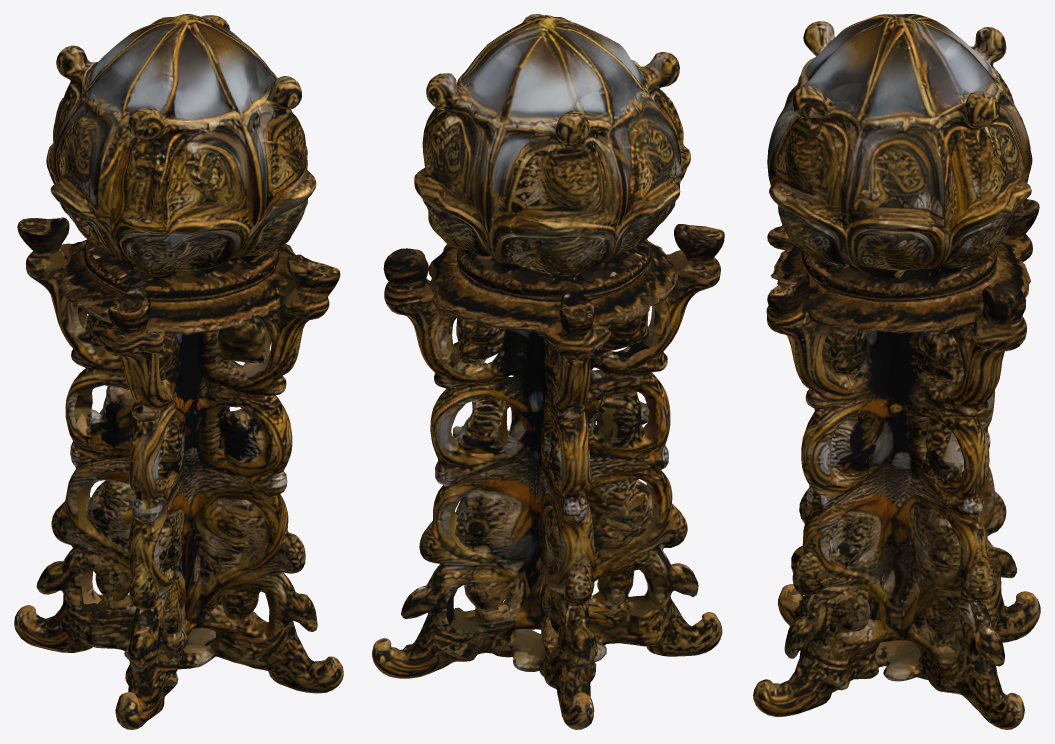
3 views of the same model, side by side, from view 1: azimuth 30°, elevation 25°; view 2: azimuth 150°, elevation 25°; view 3: azimuth 270°, elevation 25° (orthographic). The views are drawn at different scales.
Visible parts, largest first — view 1: textured_mesh; view 2: textured_mesh; view 3: textured_mesh.
Part boxes in pixels (bbox=[...]): textured_mesh: bbox=[14, 14, 343, 729]; textured_mesh: bbox=[372, 14, 724, 729]; textured_mesh: bbox=[753, 14, 1040, 729].
Bounding box in the file's own units: 0.7876 × 1.99 × 0.784.
1 material, 1 textured.
